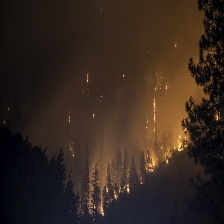fire: (148, 99, 162, 133), (145, 154, 164, 179), (173, 134, 192, 153), (93, 198, 107, 217), (161, 143, 172, 166), (119, 183, 133, 195)
smoke: (21, 9, 194, 129)
